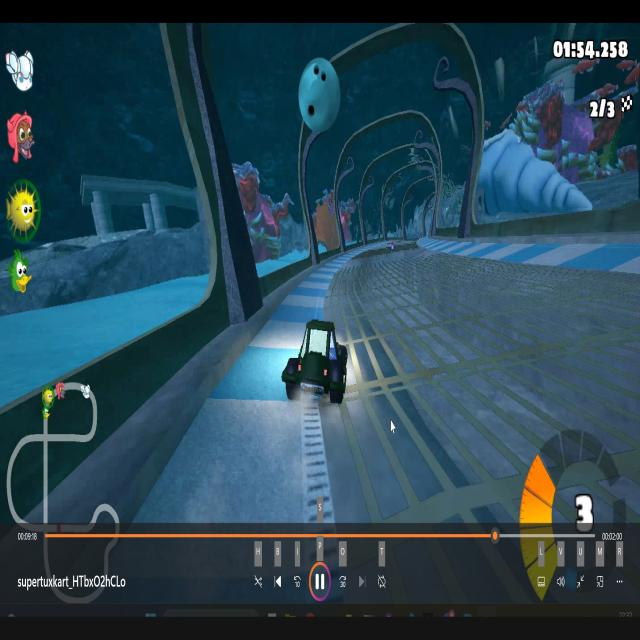player_kart: (285, 315, 348, 420)
track: (325, 420, 640, 520), (352, 312, 640, 419), (336, 267, 640, 308), (356, 255, 478, 268), (404, 237, 416, 246), (404, 246, 418, 252), (373, 248, 383, 254)
